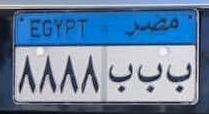8: (79, 52, 101, 95), (36, 52, 57, 97), (16, 53, 37, 96), (58, 52, 78, 97)
baa: (166, 61, 193, 97), (135, 63, 163, 96), (107, 61, 133, 93)
